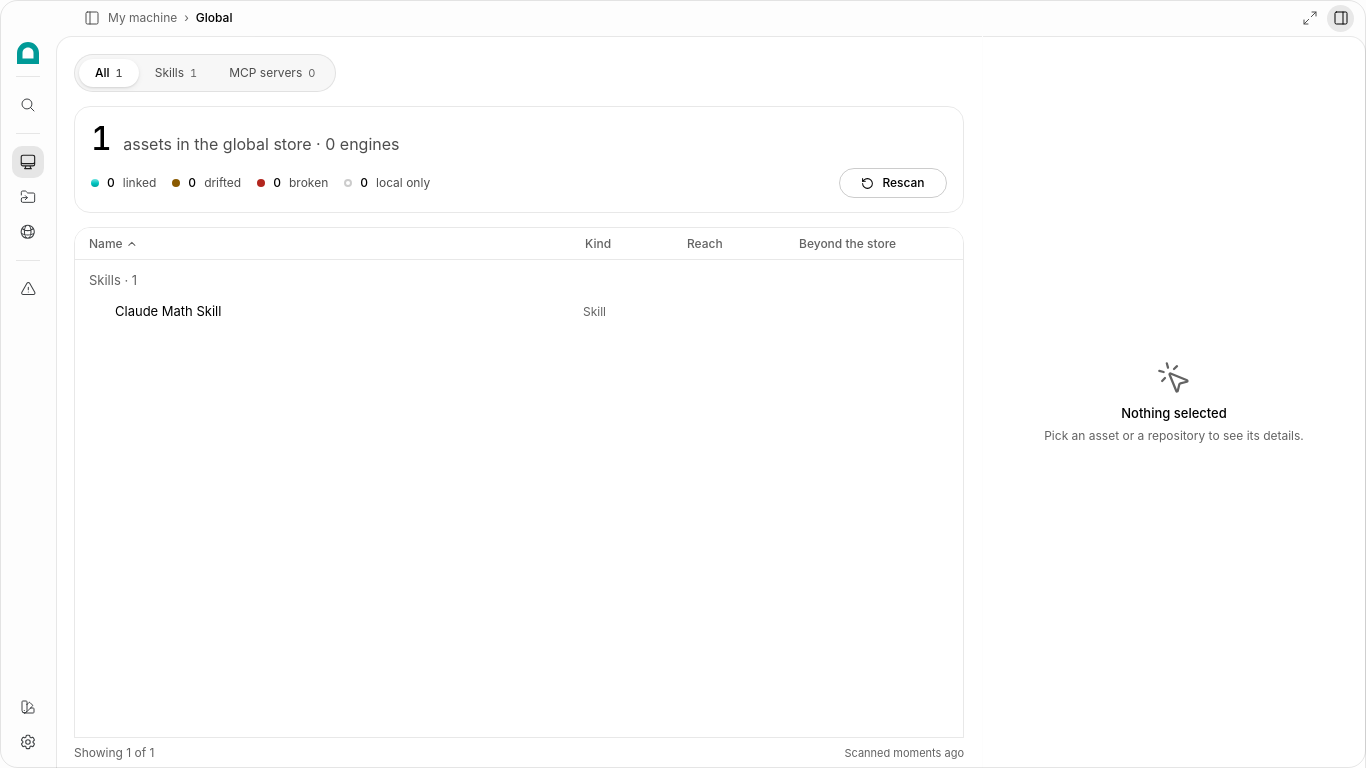
Test: The inspector's cap leads the window when it is the leftmost column › leads with 51px when the source list is collapsed and the inspector is expanded
Expected: the text "Claude Math Skill" is shown, [115,302,221,321]
Click the button named "Expand inspector": (1310, 18) [1296,4,1323,32]
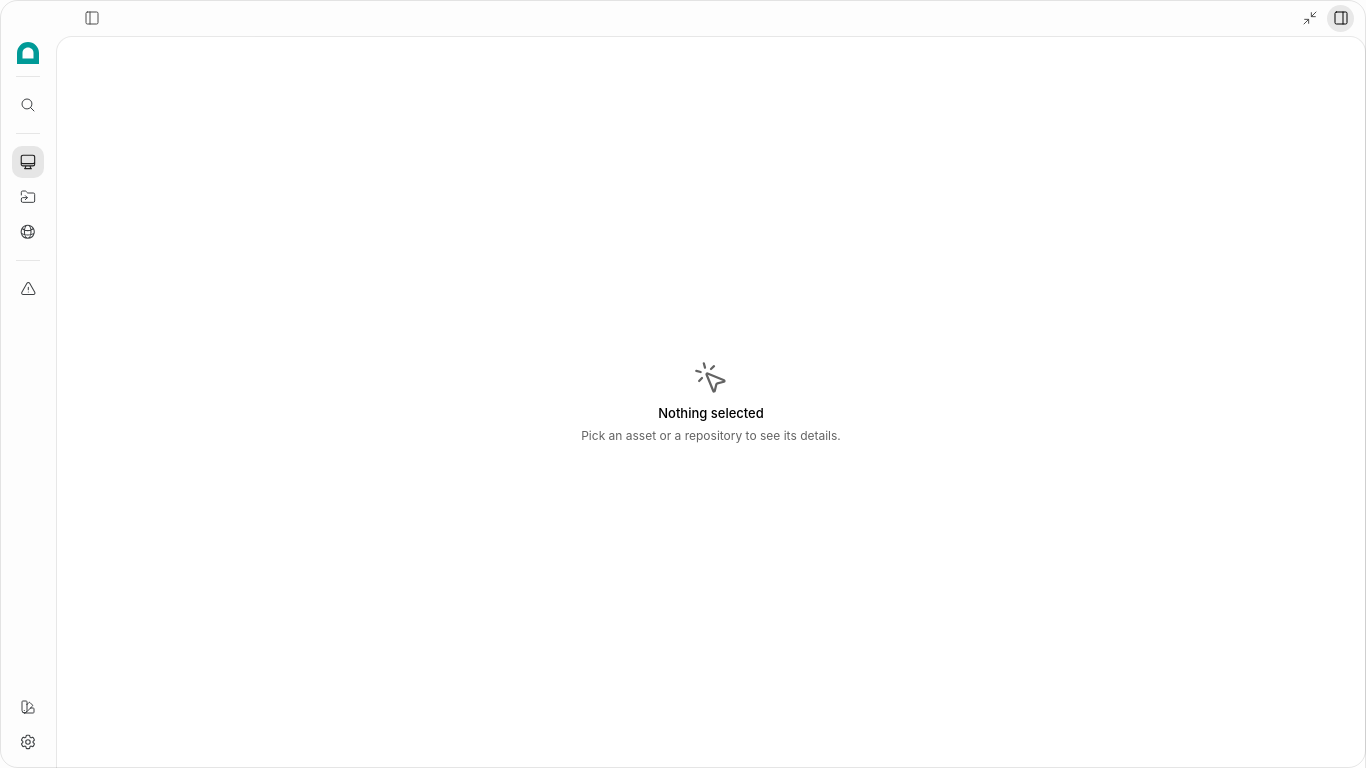
Expected: the button named "Collapse inspector" is shown, [1296,4,1323,32]
